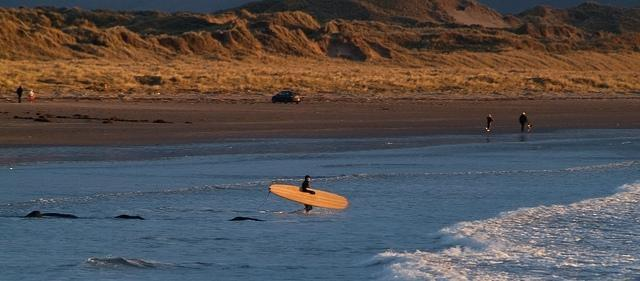car: (272, 90, 301, 104)
